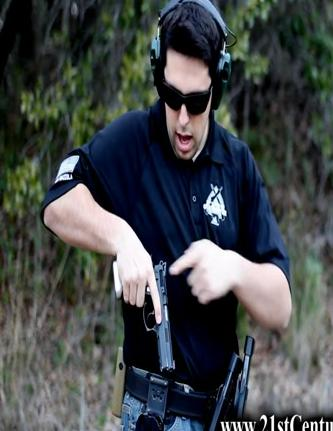pistol: (112, 258, 178, 373)
